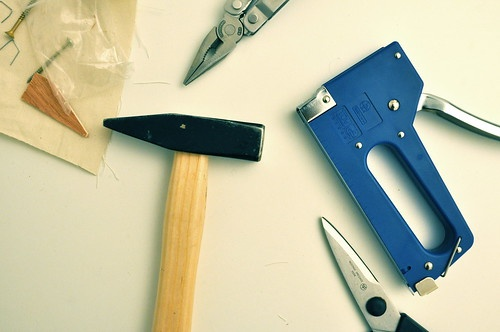hammer: (100, 112, 269, 332)
